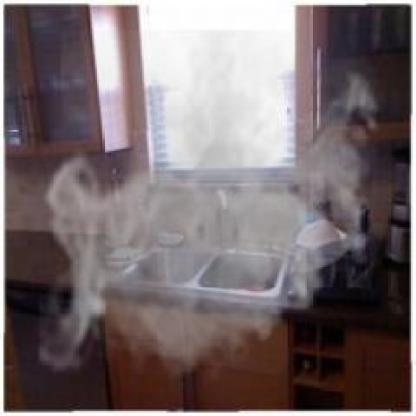Smoke: (39, 29, 391, 390)
